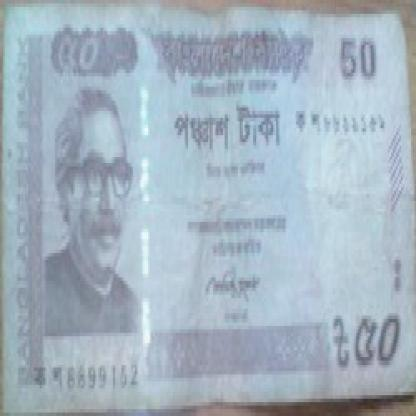Fifty taka: (348, 301, 401, 378), (52, 24, 110, 80)
